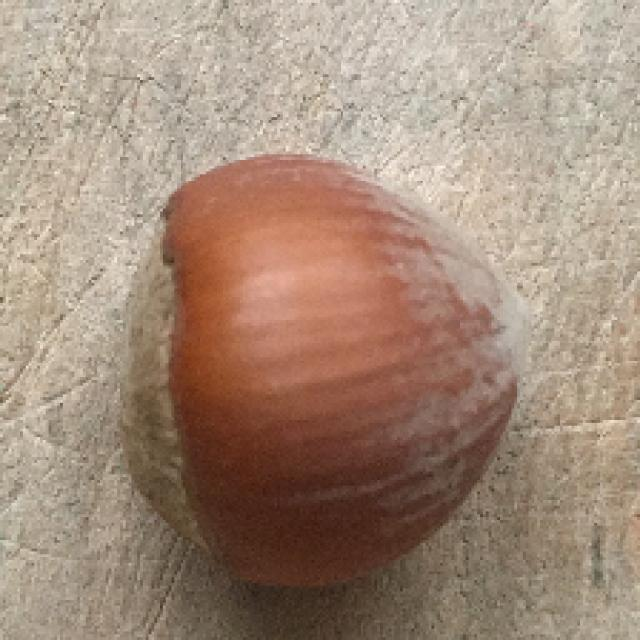qualityHazelnut: (124, 153, 516, 593)
